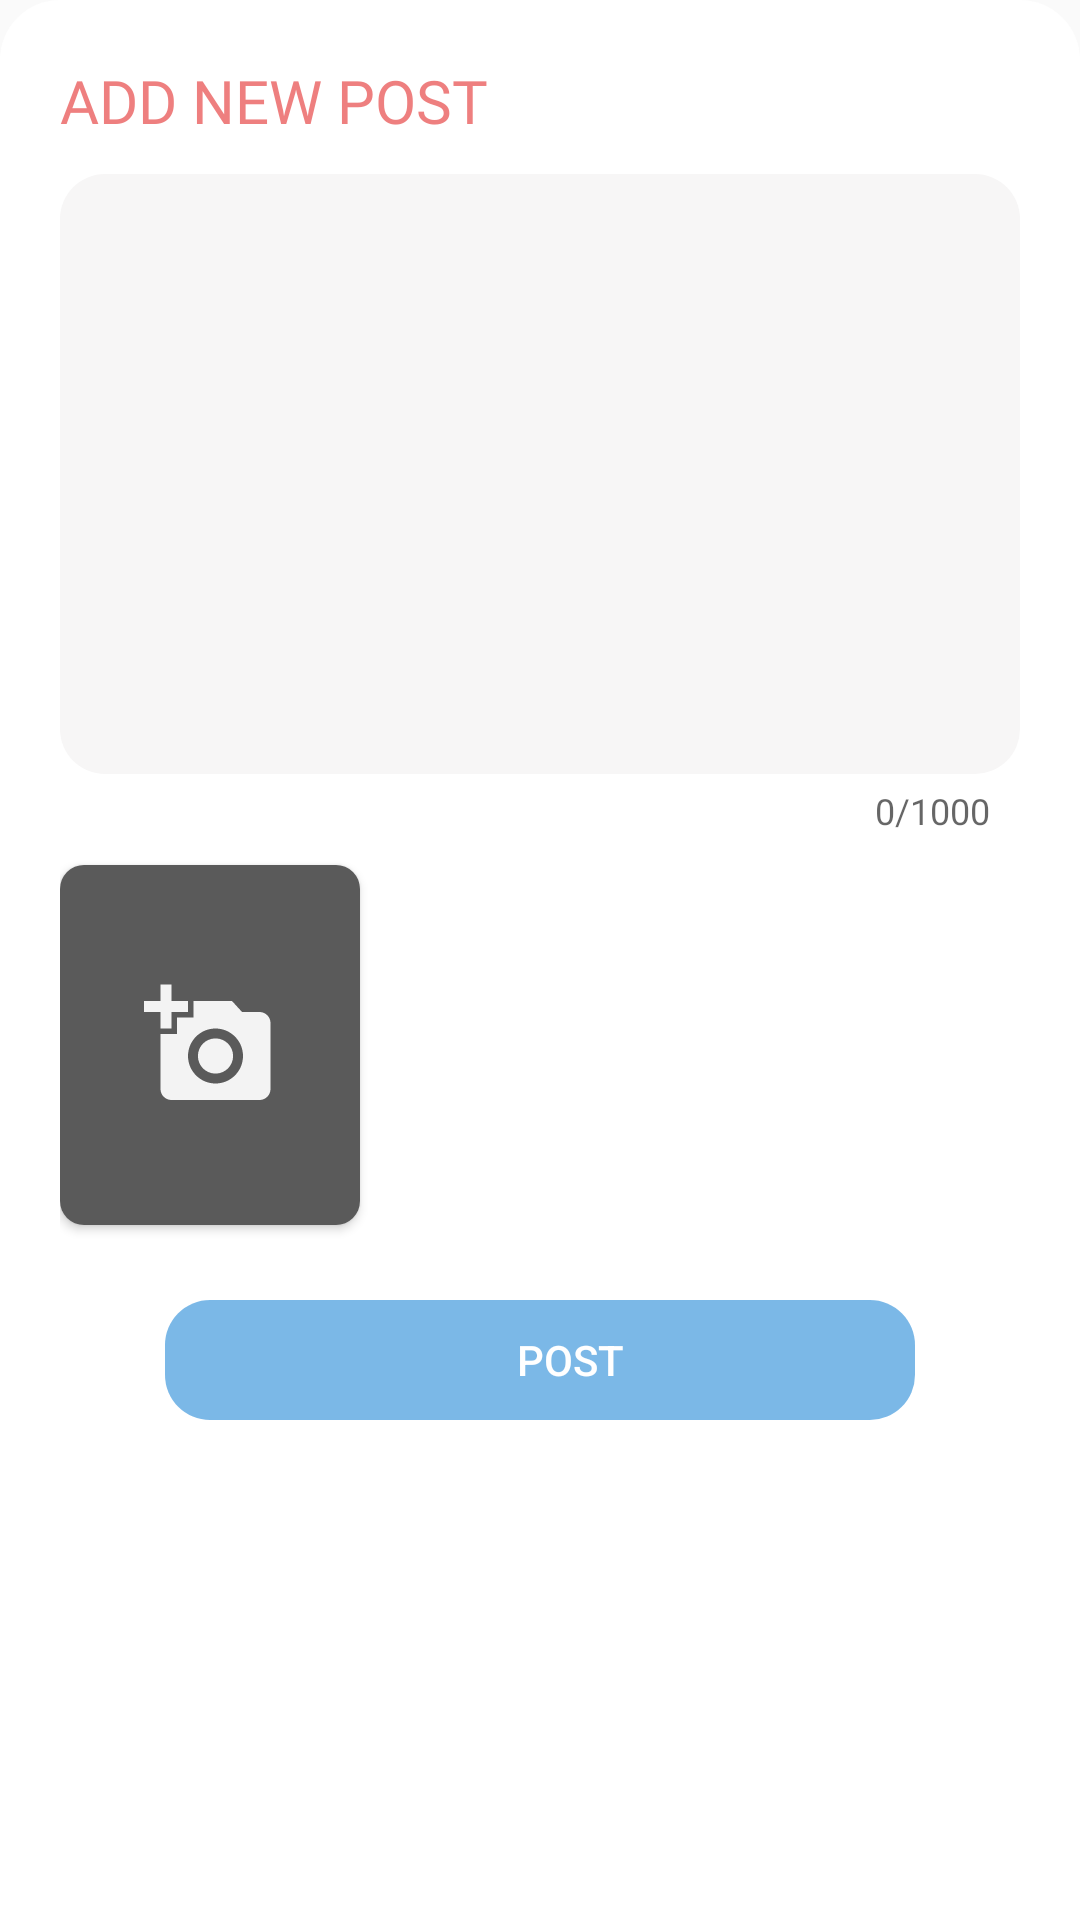

Icon click points for this 1080w x 1920h phone screenshot, format (x=x, y=y):
add photo: (x=207, y=1042)
